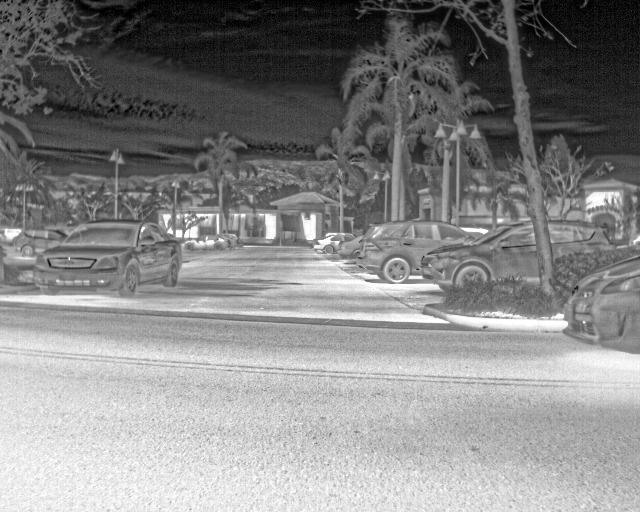car: (32, 220, 182, 300), (419, 218, 533, 294), (359, 220, 486, 284), (562, 252, 639, 357), (549, 218, 612, 261), (11, 227, 65, 257), (338, 233, 361, 261), (313, 232, 340, 255)
